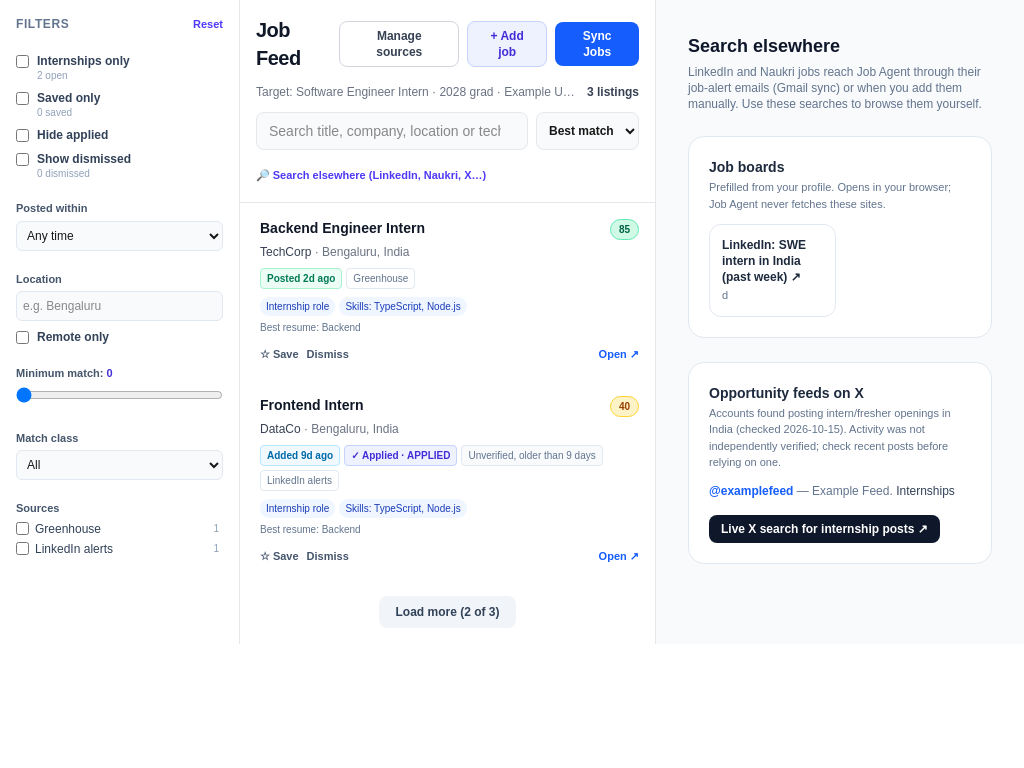
Scenario: JobDiscovery › shows search links and X feeds when no job is selected, and details when one is
Check: the text "LinkedIn: SWE intern in India (past week) ↗" is shown, box [722,238,806,284]
Check: the link "@examplefeed" is shown, box [709,484,793,498]
Click the button with test id "job-item-1" at (342, 228), box [260,219,639,335]
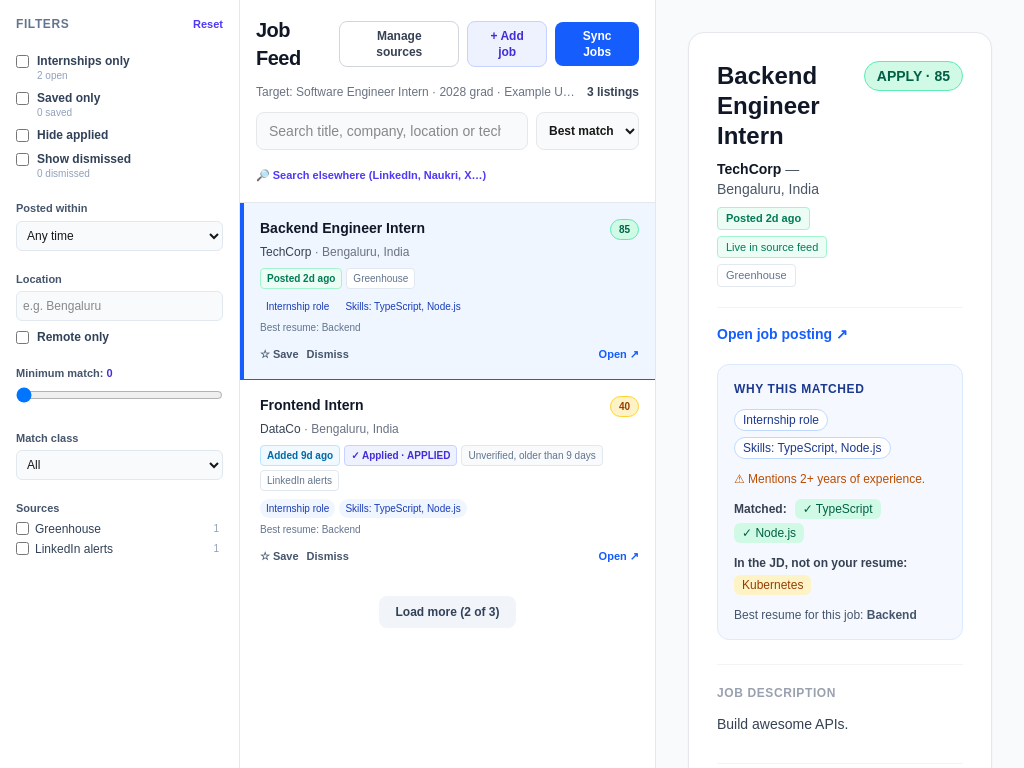
Check: the text "✓ TypeScript" is shown, box [795,498,881,518]
Check: the text "Kubernetes" is shown, box [734,574,811,594]
Check: the text "⚠ Mentions 2+ years of experience." is shown, box [734,470,946,486]
